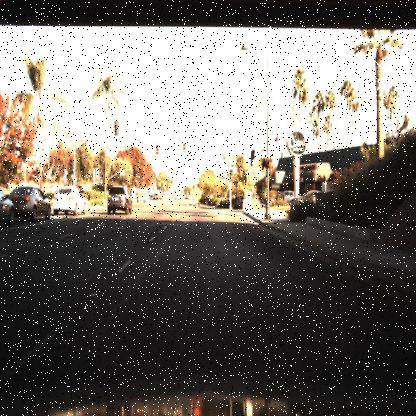car: (8, 186, 52, 220), (47, 182, 89, 216), (285, 189, 326, 212), (104, 184, 132, 216), (136, 186, 148, 209)
trafficLight-Green: (248, 146, 257, 170), (153, 143, 160, 158), (182, 141, 187, 157), (229, 166, 234, 182)
trafficLight-Red: (68, 153, 74, 172), (113, 118, 119, 135)
